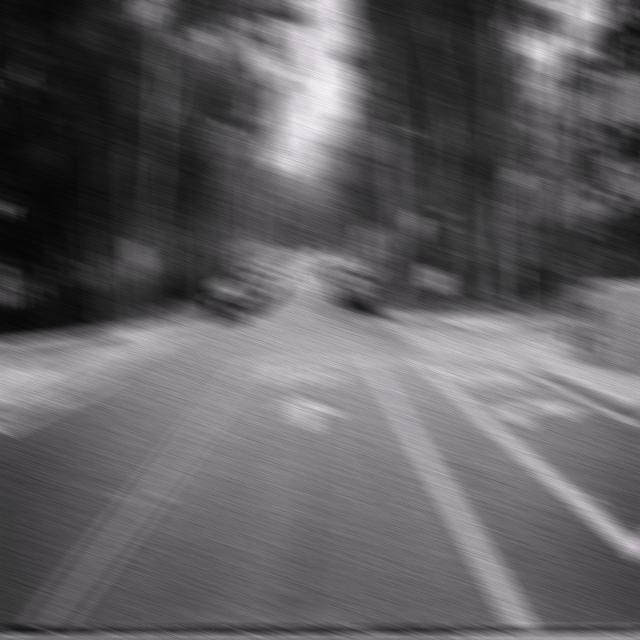stop: (568, 181, 601, 236)
